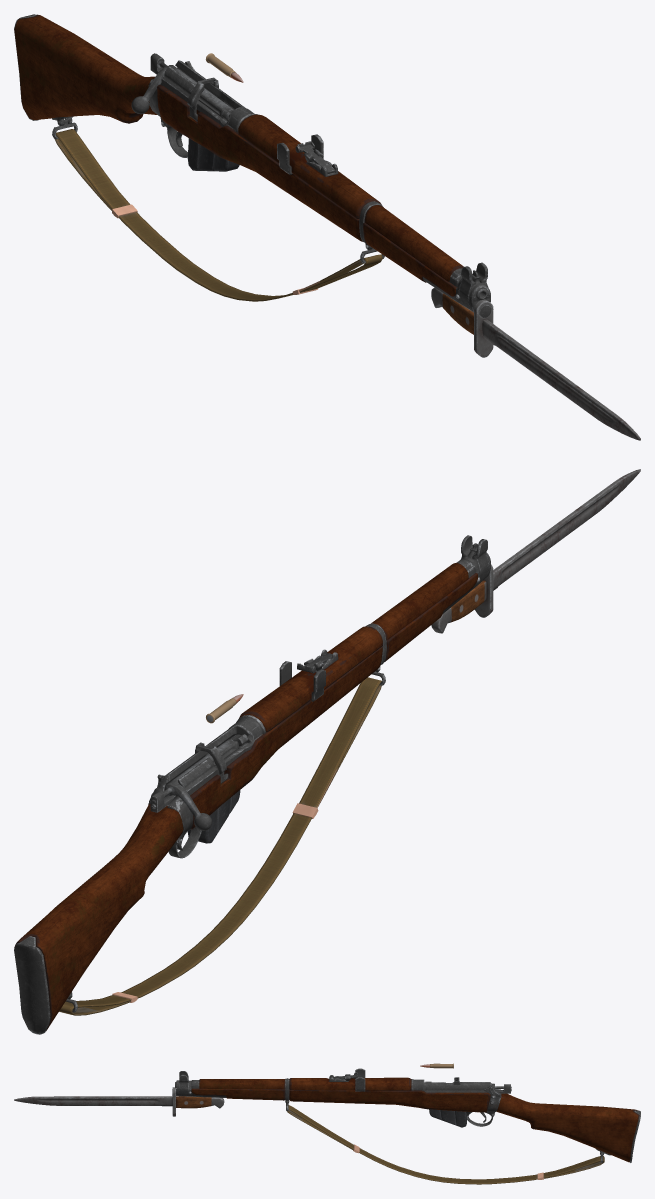
The picture shows the model from 3 angles, top to bottom: view 1: azimuth 30°, elevation 25°; view 2: azimuth 150°, elevation 25°; view 3: azimuth 270°, elevation 25°; orthographic projection. The views are drawn at different scales.
Visible parts, largest first — view 1: Object_5, Object_7, Object_8, Object_2, Object_6, Object_4; view 2: Object_5, Object_7, Object_8, Object_2, Object_6; view 3: Object_5, Object_7, Object_8, Object_2, Object_4.
Part boxes in pixels (x1,y1,x2,y2): Object_5: (14,14,463,296); Object_7: (14,14,491,317); Object_8: (54,129,382,301); Object_2: (431,287,640,440); Object_6: (131,53,233,118); Object_4: (187,109,239,171); Object_5: (14,563,477,1030); Object_7: (14,535,490,1034); Object_8: (59,677,381,1015); Object_2: (431,469,640,633); Object_6: (150,739,239,830); Object_5: (191,1077,639,1162); Object_7: (172,1068,640,1162); Object_8: (287,1105,604,1184); Object_2: (14,1087,224,1116); Object_4: (429,1109,466,1127).
Size of the model in its own units: 1.11 by 4.2 by 20.11.
7 materials, 7 textured.
